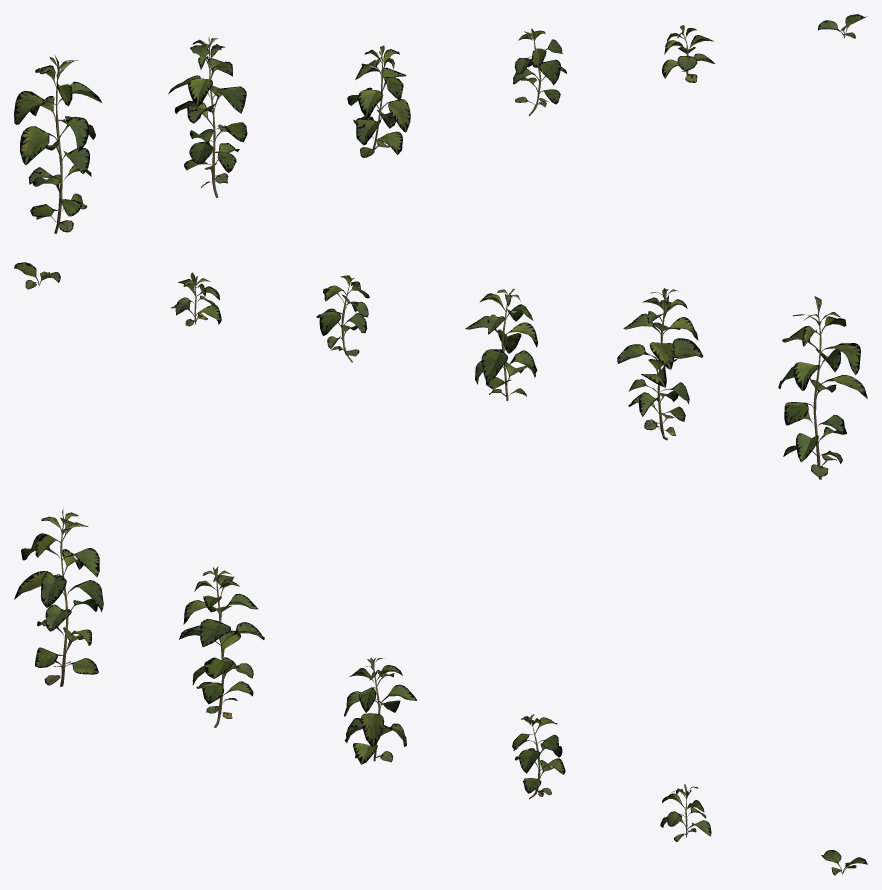
Rendered from nettle_plant.glb.
3 renders of one model, top to bottom at view 1: azimuth 30°, elevation 25°; view 2: azimuth 150°, elevation 25°; view 3: azimuth 330°, elevation 25°, orthographic.
Parts seen in each view (by area): view 1: nettle_plant_tall_a_LOD0, nettle_plant_tall_b_LOD0, nettle_plant_medium_a_LOD0, nettle_plant_medium_b_LOD0, nettle_plant_small_a_LOD0; view 2: nettle_plant_tall_a_LOD0, nettle_plant_tall_b_LOD0, nettle_plant_medium_a_LOD0, nettle_plant_medium_b_LOD0, nettle_plant_small_a_LOD0, nettle_plant_small_b_LOD0; view 3: nettle_plant_tall_a_LOD0, nettle_plant_tall_b_LOD0, nettle_plant_medium_a_LOD0, nettle_plant_medium_b_LOD0, nettle_plant_small_a_LOD0.
Boxes of the visible parts, left/top/right/bottom form: nettle_plant_tall_a_LOD0: left=14, top=54, right=101, bottom=233; nettle_plant_tall_b_LOD0: left=168, top=36, right=247, bottom=197; nettle_plant_medium_a_LOD0: left=347, top=45, right=410, bottom=157; nettle_plant_medium_b_LOD0: left=513, top=28, right=566, bottom=116; nettle_plant_small_a_LOD0: left=662, top=25, right=714, bottom=82; nettle_plant_tall_a_LOD0: left=778, top=296, right=867, bottom=479; nettle_plant_tall_b_LOD0: left=617, top=288, right=703, bottom=440; nettle_plant_medium_a_LOD0: left=465, top=288, right=537, bottom=400; nettle_plant_medium_b_LOD0: left=316, top=275, right=369, bottom=362; nettle_plant_small_a_LOD0: left=171, top=272, right=221, bottom=326; nettle_plant_small_b_LOD0: left=14, top=262, right=60, bottom=289; nettle_plant_tall_a_LOD0: left=14, top=509, right=103, bottom=686; nettle_plant_tall_b_LOD0: left=179, top=566, right=264, bottom=727; nettle_plant_medium_a_LOD0: left=344, top=657, right=417, bottom=764; nettle_plant_medium_b_LOD0: left=512, top=714, right=565, bottom=799; nettle_plant_small_a_LOD0: left=660, top=784, right=711, bottom=841.
Bounding box in the file's own units: 1.08 × 0.2183 × 0.0947.
1 material, 1 textured.
